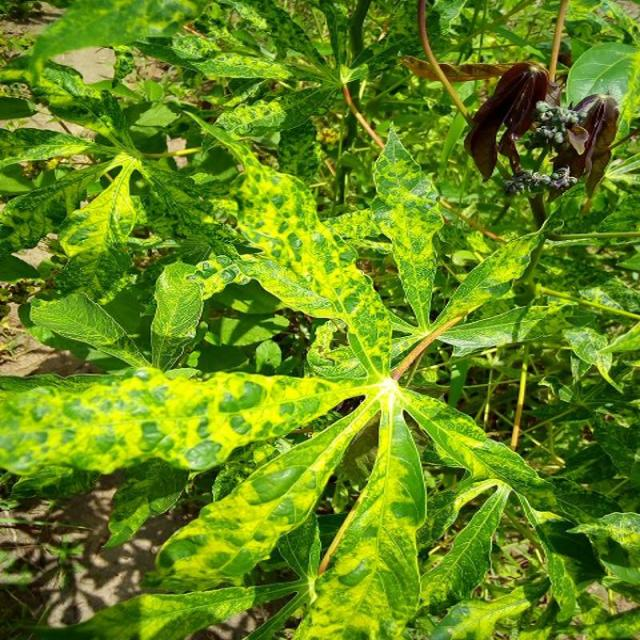Mosaico: (51, 180, 513, 541), (243, 130, 627, 378), (56, 7, 367, 201), (2, 63, 200, 263)
